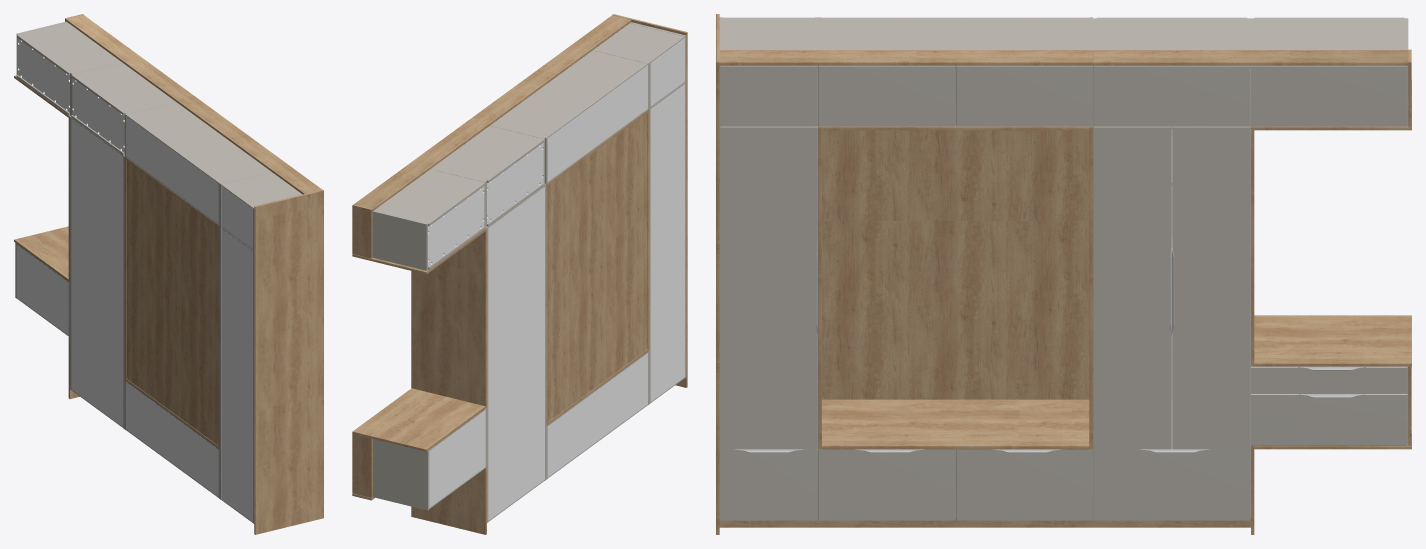
Rendered from domoss804_v6.glb.
3 views of the same model, side by side, from view 1: azimuth 30°, elevation 25°; view 2: azimuth 150°, elevation 25°; view 3: azimuth 270°, elevation 25° (orthographic). The views are drawn at different scales.
Visible parts, largest first — view 1: Object_4, Object_2, Object_5; view 2: Object_4, Object_2, Object_5; view 3: Object_5, Object_4, Object_7.
Part boxes in pixels (bbox=[...]): Object_4: bbox=[14, 14, 323, 534]; Object_2: bbox=[16, 38, 252, 521]; Object_5: bbox=[15, 21, 302, 523]; Object_4: bbox=[352, 14, 687, 534]; Object_2: bbox=[428, 38, 684, 520]; Object_5: bbox=[372, 22, 686, 522]; Object_5: bbox=[719, 17, 1408, 520]; Object_4: bbox=[716, 14, 1411, 534]; Object_7: bbox=[720, 200, 1407, 453].
Bounding box in the file's own units: 60.31 × 265 × 354.
Materials: 5 (2 with a texture image).
